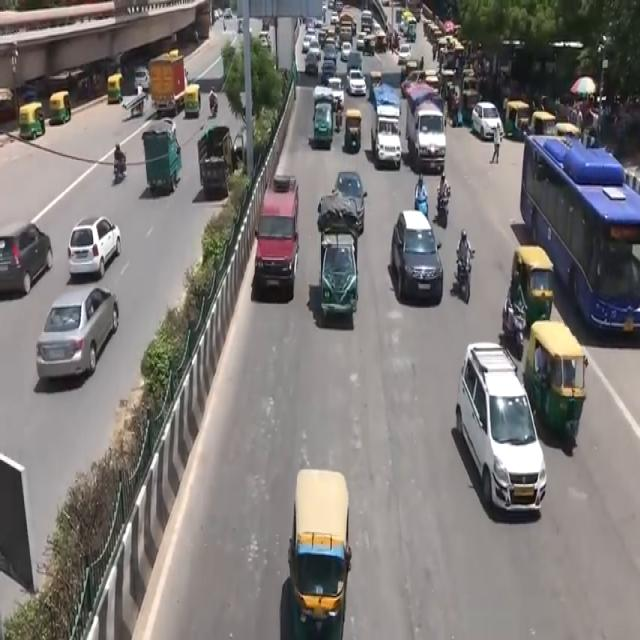BUS: (519, 139, 639, 346)
TRUCK: (257, 178, 297, 300), (318, 197, 359, 314), (409, 83, 445, 173), (148, 51, 185, 116), (374, 82, 401, 169)
